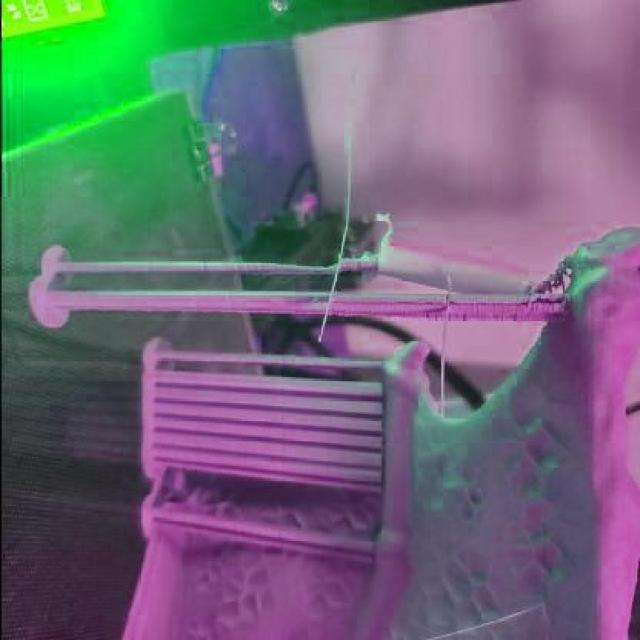Spaghetti: (315, 140, 353, 346), (435, 272, 454, 420), (532, 255, 579, 302)
